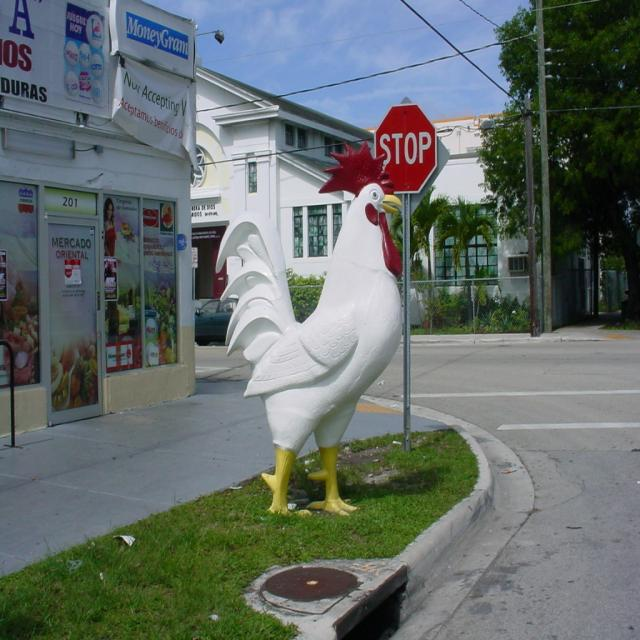Stop-sign: (372, 102, 439, 196)
